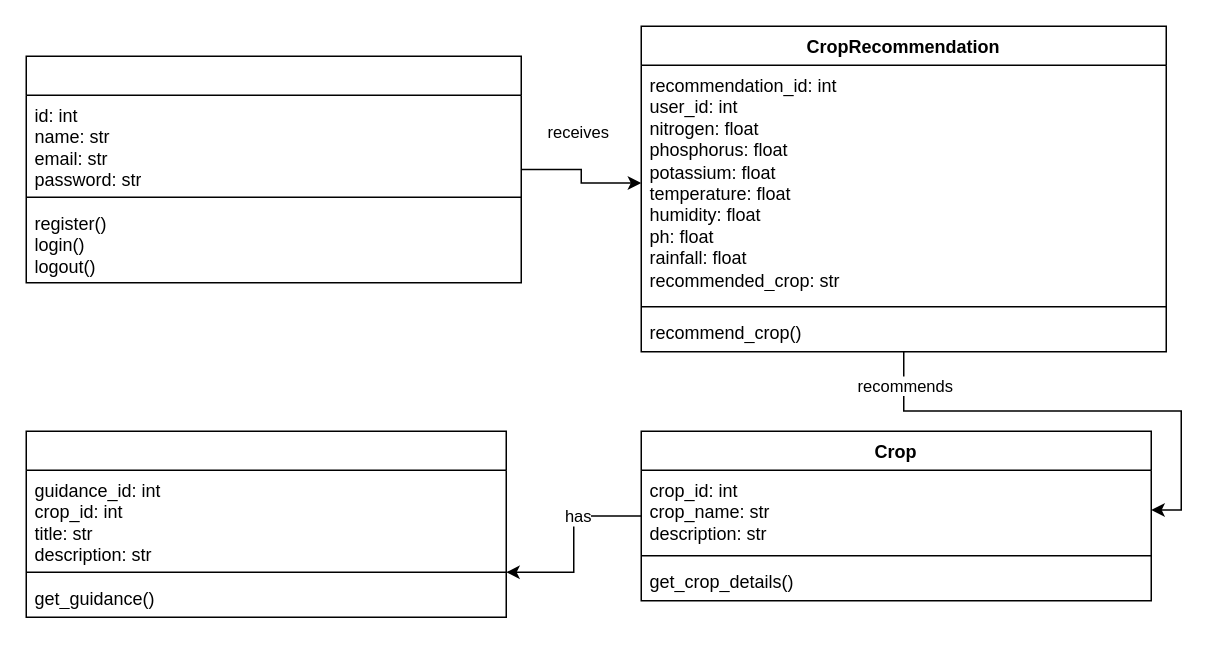
Image size: 1220x648. Some labels were removed from this diagram. The shapes that lost their labels are listed below. From the top down, each one's box as (x1, y1, x2, y2) in pixels, then its label:
(25, 55, 521, 283): User
(25, 430, 506, 617): FarmingGuidance
